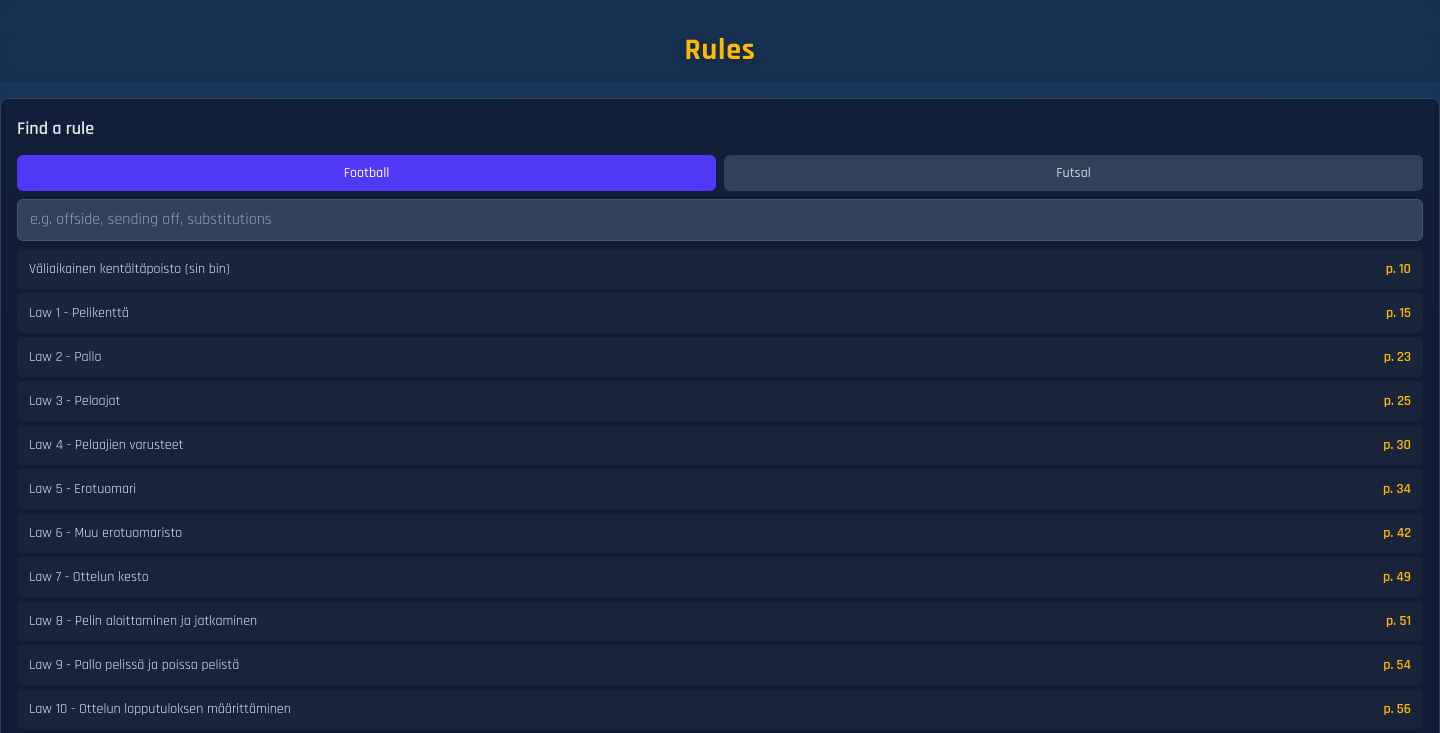
Test: RulesDirectoryModal › lists all 17 laws before anything is typed, and says so when nothing matches
Type "zzzznotarule" into the search field with test id "rules-search".
click(720, 220); type("zzzznotarule")  # box [17,198,1423,240]
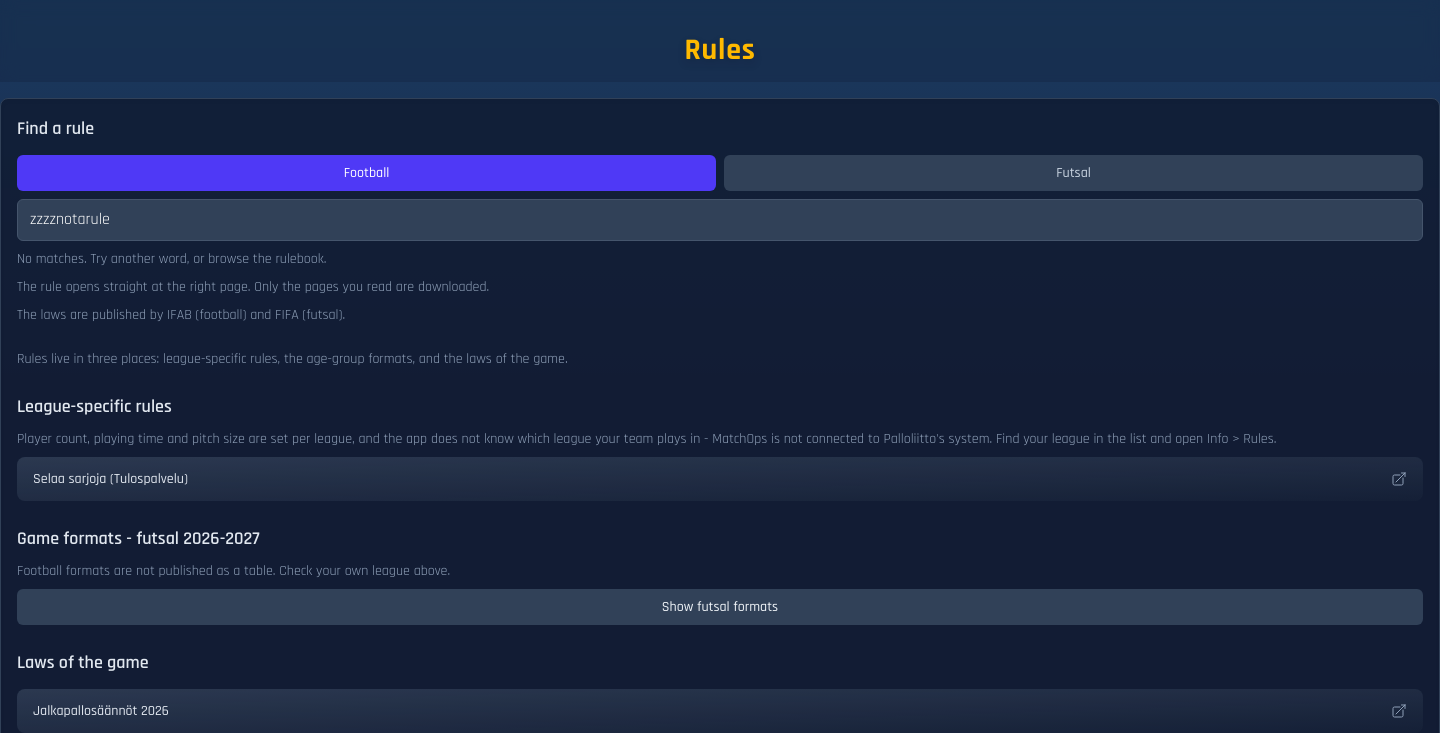
Result: the text "No matches. Try another word, or browse the rulebook." is shown at [17,250,326,268]
